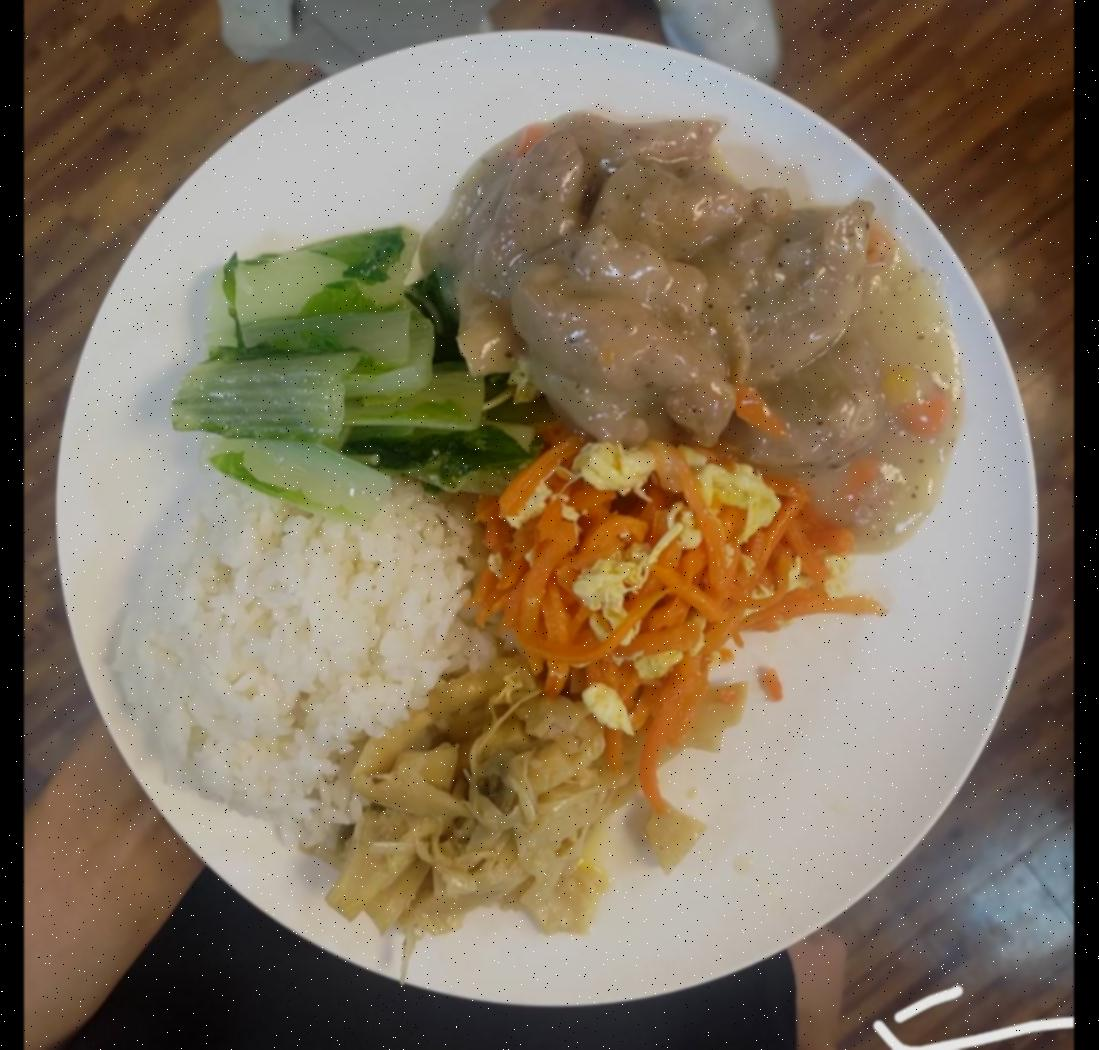plate: (48, 26, 1038, 1015)
side dish: (470, 418, 822, 688), (328, 664, 634, 948), (180, 241, 500, 499)
white rice: (97, 454, 470, 808)
white sauce chicken: (433, 114, 946, 550)
